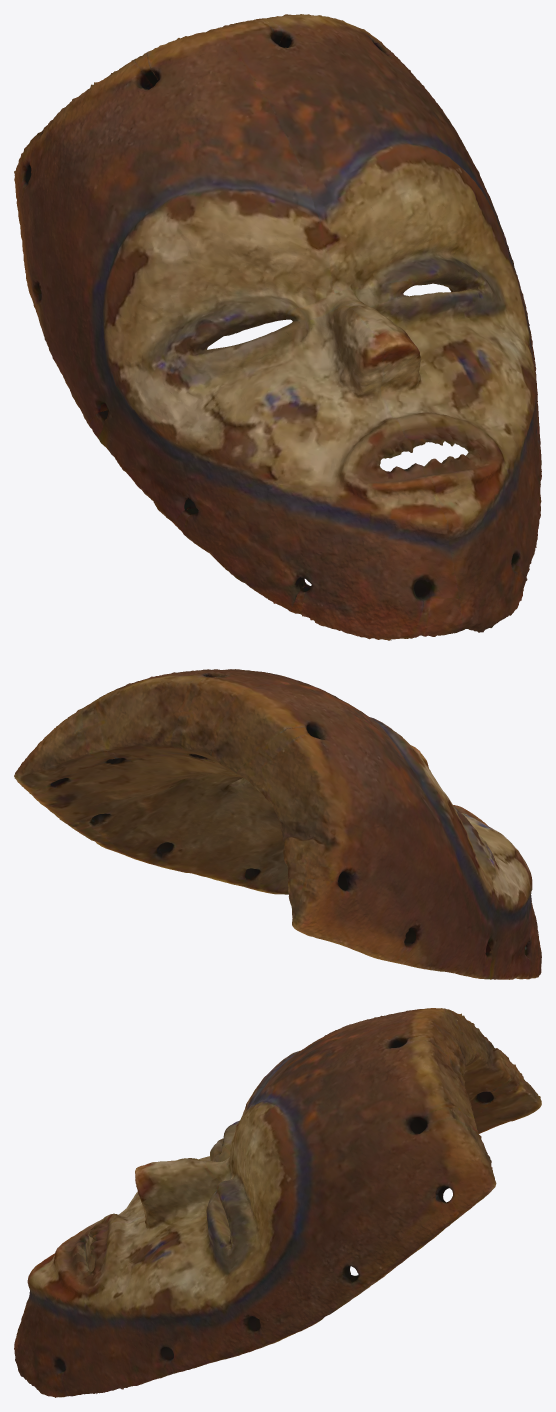
File: preview.glb
The picture shows the model from 3 angles, top to bottom: view 1: azimuth 30°, elevation 25°; view 2: azimuth 150°, elevation 25°; view 3: azimuth 270°, elevation 25°; orthographic projection. The views are drawn at different scales.
Visible parts, largest first — view 1: Object_2; view 2: Object_2; view 3: Object_2.
Part boxes in pixels (<box>): Object_2: <box>14,14,541,640</box>; Object_2: <box>14,669,541,979</box>; Object_2: <box>14,1008,541,1397</box>.
Bounding box in the file's own units: 0.7752 × 0.7653 × 1.03.
Materials: 1 (1 with a texture image).
